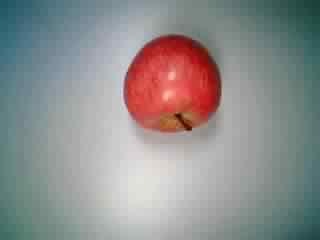apple: (117, 34, 221, 135)
